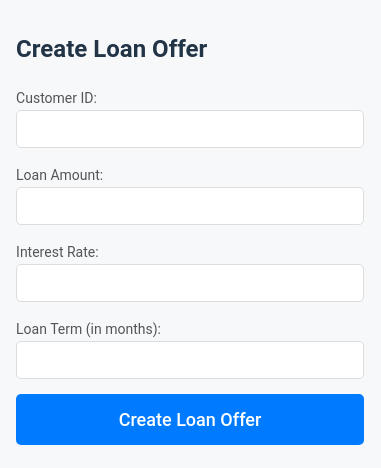
Test: MakeLoanOffer Component › submits form with valid data
The width and height of the screenshot is (381, 468).
Type "1" into the field labelled "Customer ID:" at (190, 129), box top-left (16, 110), bottom-right (364, 148)
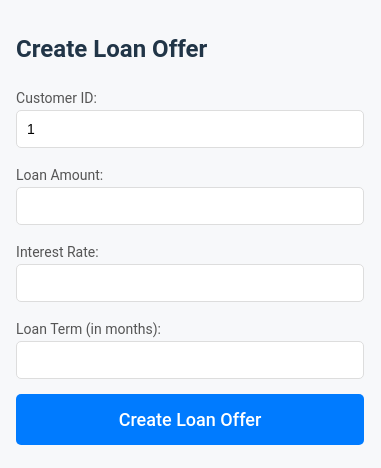
Type "1000" into the field labelled "Loan Amount:" at (190, 206), box top-left (16, 187), bottom-right (364, 225)
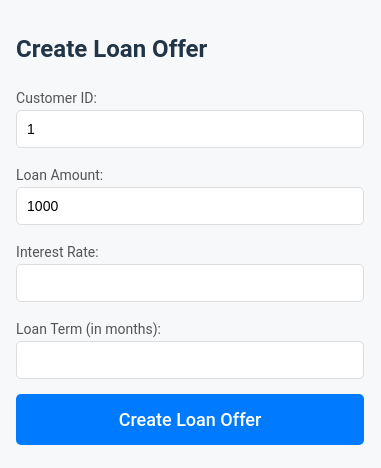
Type "5" into the field labelled "Interest Rate:" at (190, 283), box top-left (16, 264), bottom-right (364, 302)
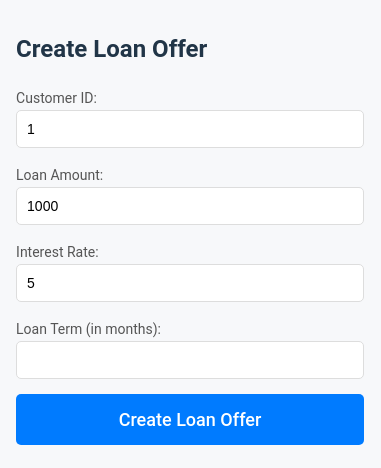
Type "12" into the field labelled "Loan Term (in months):" at (190, 360), box top-left (16, 341), bottom-right (364, 379)
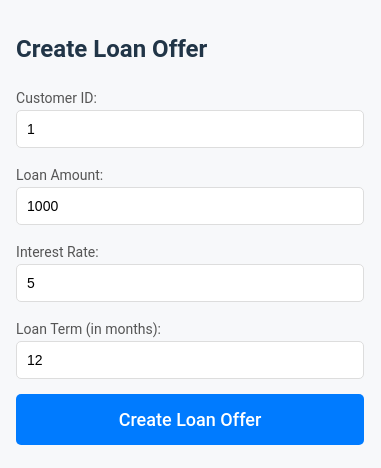
Click the button "Create Loan Offer" at (190, 420), box top-left (16, 394), bottom-right (364, 445)
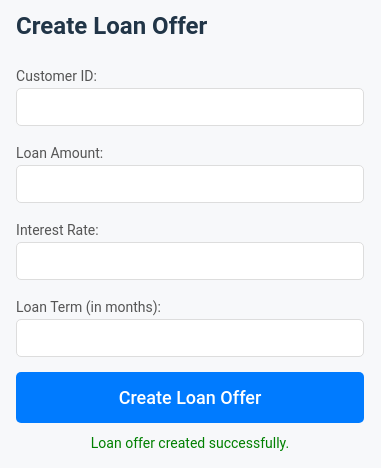
Check: the text "Loan offer created successfully." is shown, box top-left (91, 435), bottom-right (289, 451)
